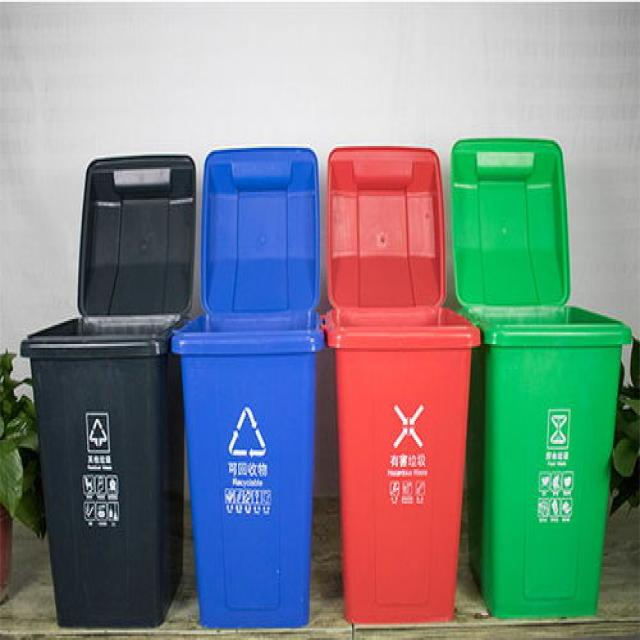garbage_bin: (457, 304, 631, 617), (19, 313, 188, 627), (325, 304, 480, 622), (172, 313, 322, 627)
